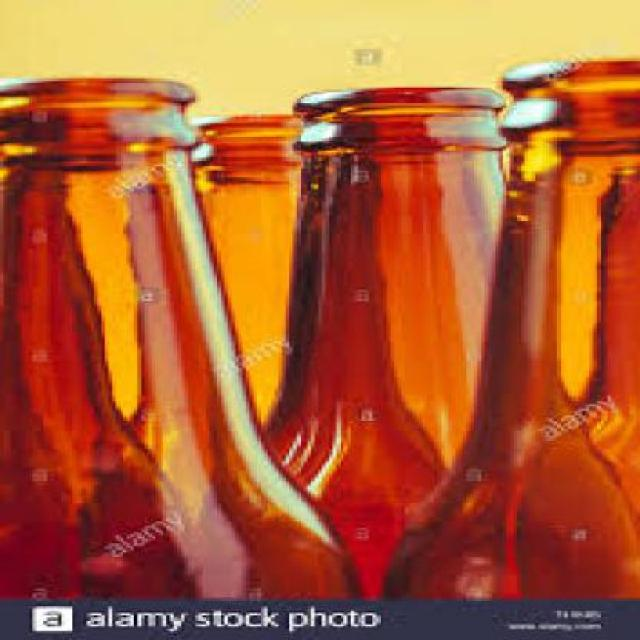kaca: (0, 73, 355, 598), (377, 57, 637, 598), (260, 85, 506, 600), (184, 112, 318, 436)
